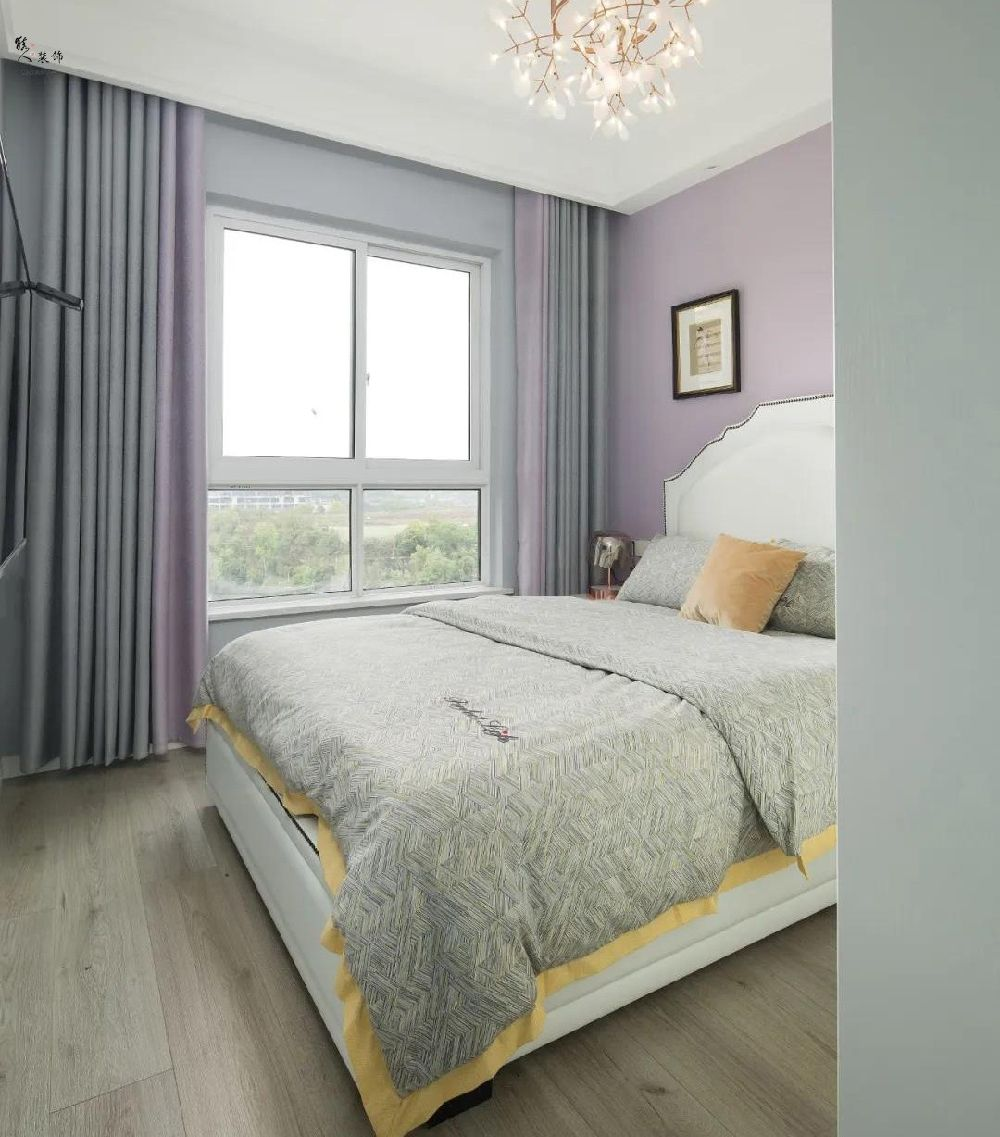床: (215, 591, 847, 1082)
枕头: (587, 534, 828, 639)
灯: (494, 0, 699, 147)
